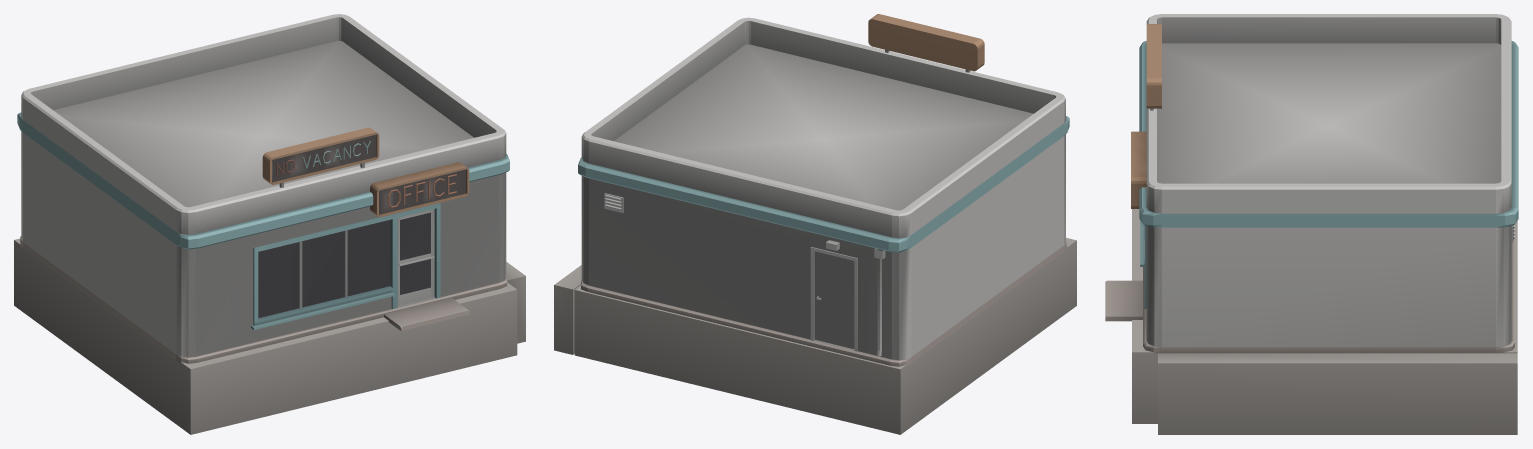
The model's file is motel.glb.
3 views of the same model, side by side, from view 1: azimuth 30°, elevation 25°; view 2: azimuth 150°, elevation 25°; view 3: azimuth 270°, elevation 25° (orthographic). The views are drawn at different scales.
Visible parts, largest first — view 1: motel; view 2: motel; view 3: motel.
Boxes of the visible parts, <box> form: motel: <box>14,14,525,434</box>; motel: <box>554,14,1076,434</box>; motel: <box>1105,14,1518,434</box>.
Size of the model in its own units: 8.48 by 5.84 by 8.
